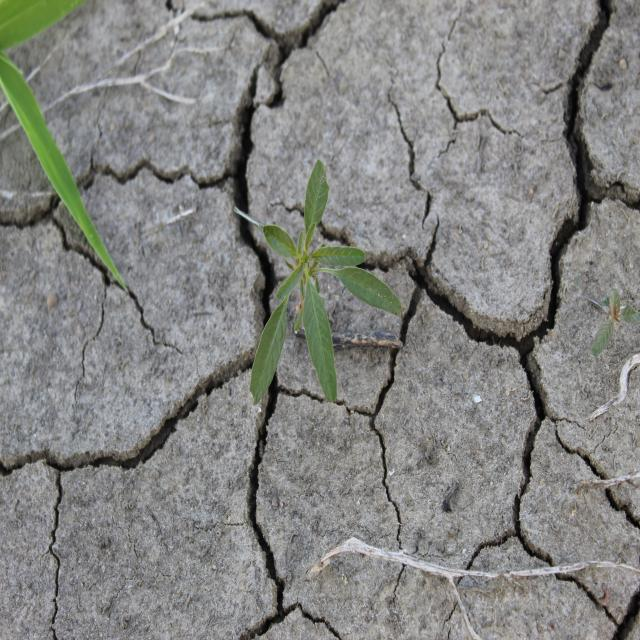Waterhemp: (248, 158, 406, 408), (591, 287, 639, 359)
